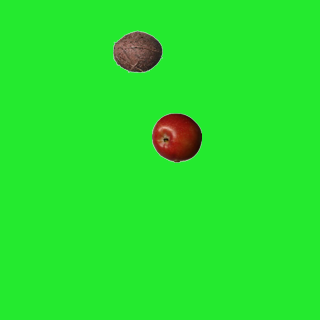Apple Braeburn: (151, 112, 201, 162)
Cocos: (112, 26, 162, 76)
